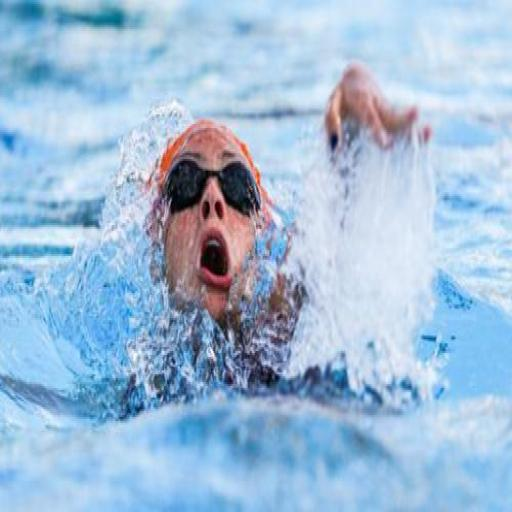swimming: (129, 58, 435, 411)
